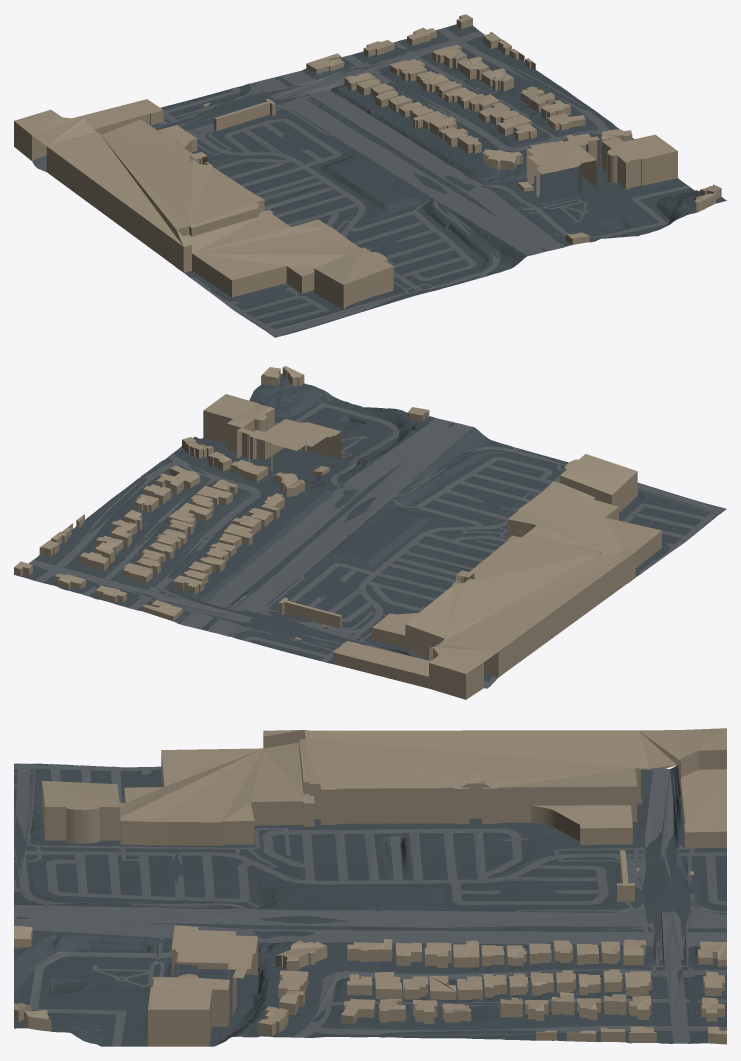
The model's file is epsg26910-1422-10874.lod0.glb.
3 views of the same model, one above another, from view 1: azimuth 30°, elevation 25°; view 2: azimuth 150°, elevation 25°; view 3: azimuth 270°, elevation 25° (orthographic). The views are drawn at different scales.
Parts seen in each view (by area): view 1: epsg26910-1422-10874-lod0; view 2: epsg26910-1422-10874-lod0; view 3: epsg26910-1422-10874-lod0.
Part boxes in pixels (x1,y1,x2,y2): epsg26910-1422-10874-lod0: (14,14,726,337); epsg26910-1422-10874-lod0: (14,366,726,699); epsg26910-1422-10874-lod0: (14,728,726,1046).
Bounding box in the file's own units: 384 × 36.7 × 384.
